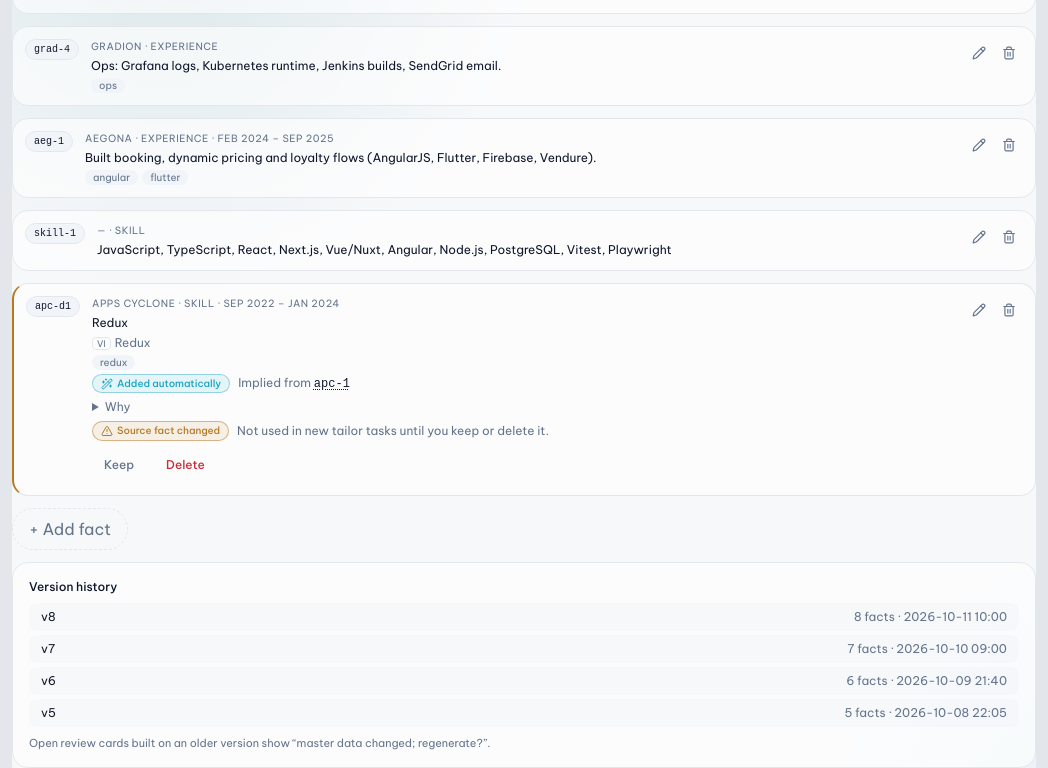
it: derived facts on the Master CV screen › Delete on a flagged fact removes it from the list (saved with Save)
(page scrolled)
What coordinates should you click on to do the following:
click the button "Delete"
I would click on:
 (185, 465)
Its box is [154,447,217,483].
(page scrolled)
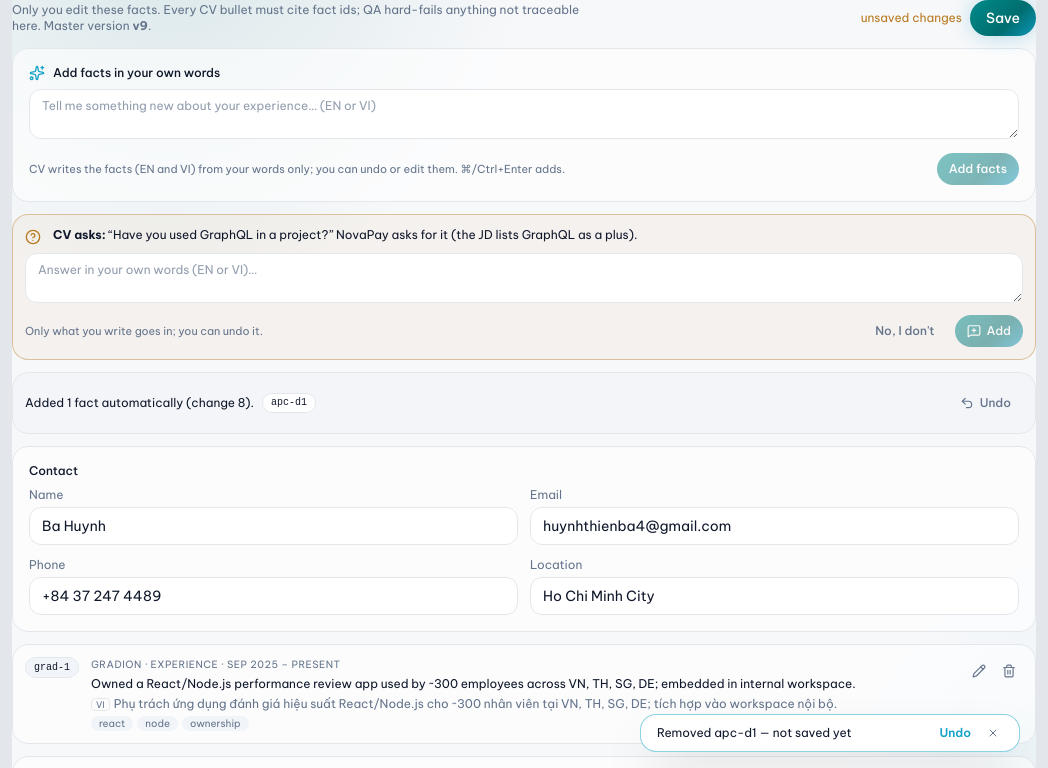
Expected: the text "unsaved changes" is shown, [861,10,962,26]
